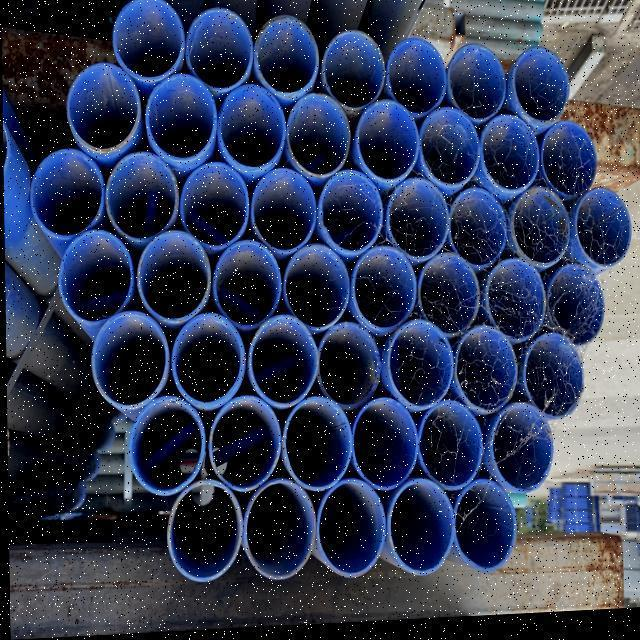pipe: (233, 481, 316, 583), (162, 480, 243, 584), (89, 308, 171, 408), (122, 393, 201, 495), (50, 232, 134, 327), (311, 481, 387, 582), (443, 478, 522, 573), (133, 230, 211, 324), (383, 475, 454, 577), (176, 162, 257, 250), (29, 145, 104, 239), (280, 397, 351, 496), (169, 312, 245, 404), (206, 398, 277, 495), (347, 397, 417, 494), (381, 322, 454, 413), (105, 151, 178, 241), (247, 316, 317, 409), (146, 76, 218, 166), (406, 253, 475, 345), (67, 64, 139, 152), (487, 406, 554, 499), (211, 241, 282, 328), (314, 172, 385, 258), (281, 246, 349, 334), (347, 247, 418, 331), (248, 167, 314, 257), (112, 0, 184, 82), (315, 322, 381, 411), (452, 326, 517, 416), (417, 404, 483, 492), (218, 86, 287, 170), (519, 335, 582, 425), (186, 10, 256, 91), (354, 95, 419, 182), (285, 95, 351, 180), (253, 16, 319, 97), (420, 109, 483, 193), (384, 178, 448, 260), (507, 189, 570, 272), (319, 32, 385, 111), (483, 261, 543, 346), (476, 117, 537, 199), (386, 41, 446, 123), (546, 267, 605, 350), (574, 190, 630, 277), (447, 191, 507, 272), (446, 48, 507, 127), (508, 47, 567, 125), (541, 125, 597, 207)
